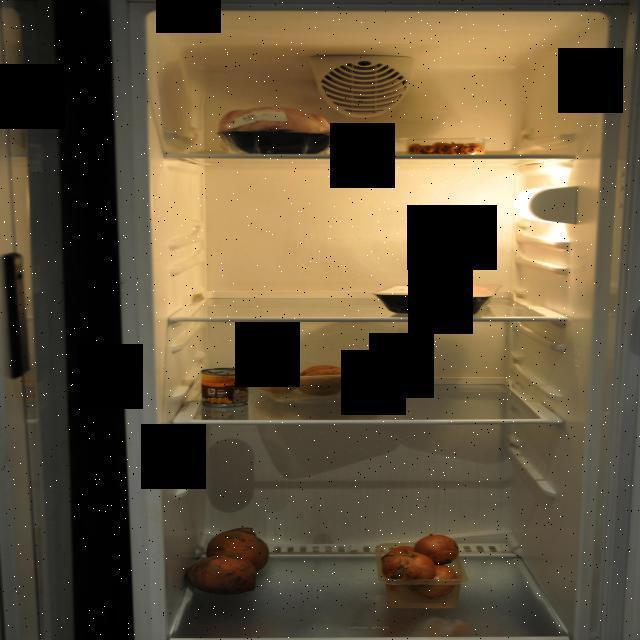chicken: (210, 106, 346, 158)
corn: (200, 366, 250, 408)
ground_beef: (372, 282, 503, 316)
onion: (374, 534, 470, 610)
potato: (256, 362, 402, 396)
shrimp: (408, 140, 482, 156)
sweet_potato: (183, 521, 274, 605)
